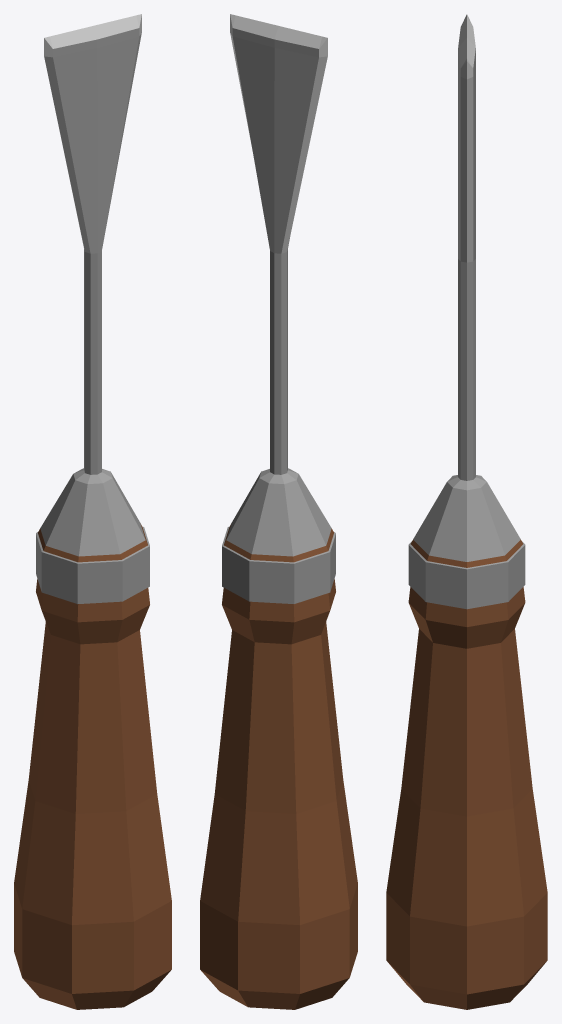
The model's file is chisel05.obj.
3 renders of one model, left to right at view 1: azimuth 30°, elevation 25°; view 2: azimuth 150°, elevation 25°; view 3: azimuth 270°, elevation 25°, orthographic.
Parts seen in each view (by area): view 1: Cylinder_Cylinder.002; view 2: Cylinder_Cylinder.002; view 3: Cylinder_Cylinder.002.
Part boxes in pixels (x1,y1,x2,y2): Cylinder_Cylinder.002: (14, 14, 171, 1009); Cylinder_Cylinder.002: (200, 14, 357, 1009); Cylinder_Cylinder.002: (386, 14, 547, 1009).
Size of the model in its own units: 0.0276 by 0.1789 by 0.0276.
1 material, 1 textured.
